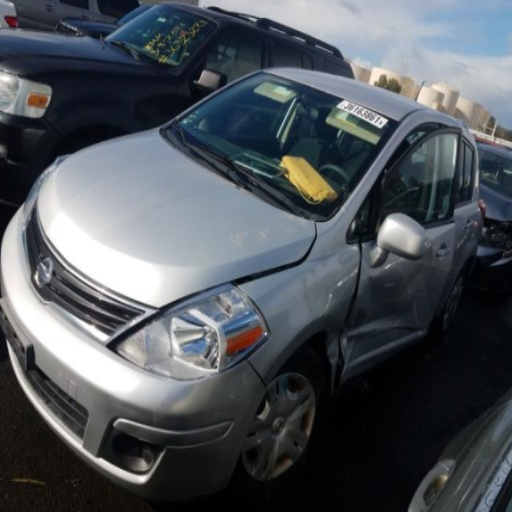dent: (305, 254, 442, 377)
rust: (302, 411, 315, 436), (281, 457, 292, 473)
scratch: (318, 265, 362, 317), (377, 257, 405, 280), (242, 374, 248, 385), (228, 393, 233, 401), (214, 411, 217, 415)
